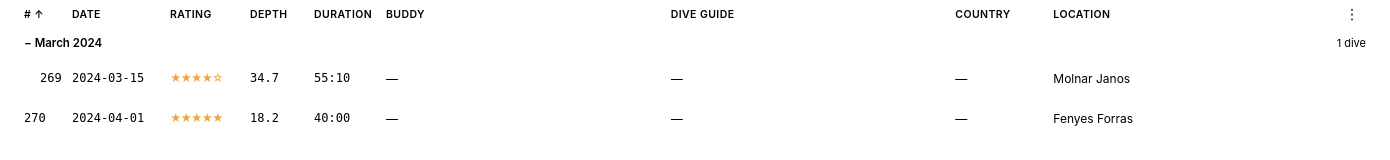
DiveList › renders a collapsible trip header and hides its dives when collapsed
The image size is (1390, 160).
Expected: the text "Molnar Janos" is shown, x1=1053 y1=70 x2=1130 y2=86
Click the text "− March 2024".
click(63, 43)  # box x1=24 y1=36 x2=102 y2=50
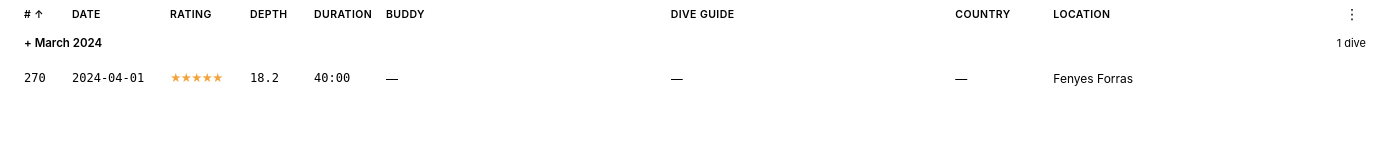
Expected: the text "Fenyes Forras" is shown, x1=1053 y1=70 x2=1133 y2=86
Now the button "Molnar Janos" is gone
